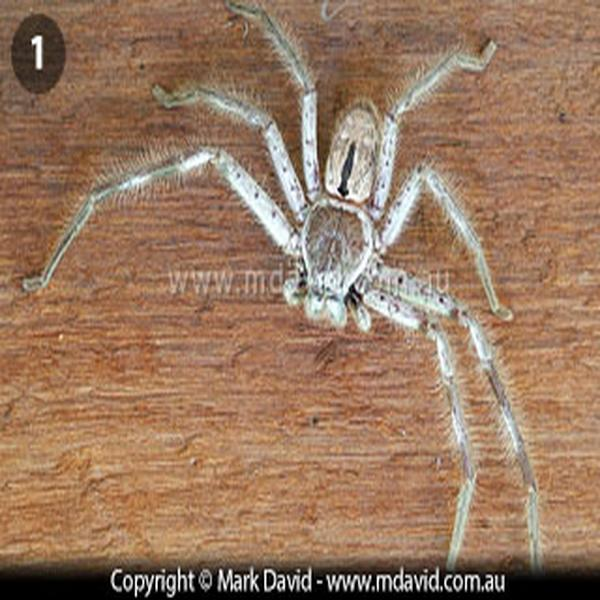Huntsman Spider: (36, 9, 549, 573)
